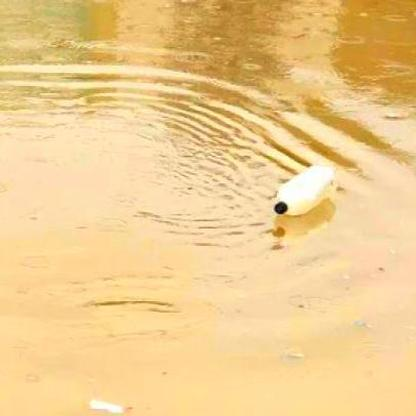plastic bottle: (273, 165, 337, 215)
